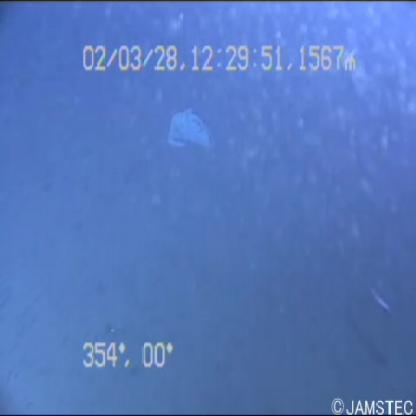Rác: (160, 103, 246, 170)
